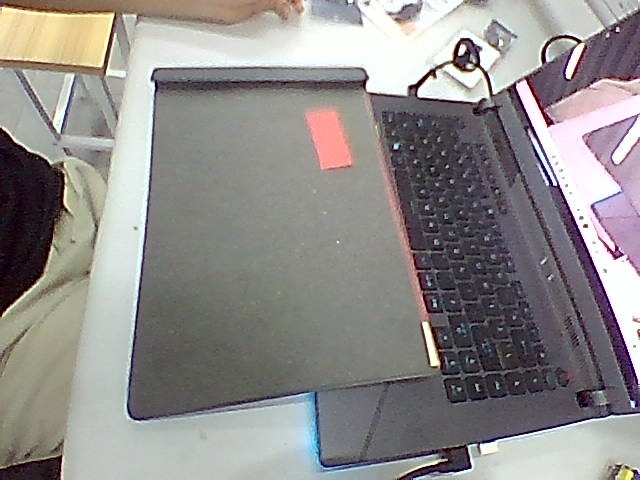card: (306, 107, 352, 169)
